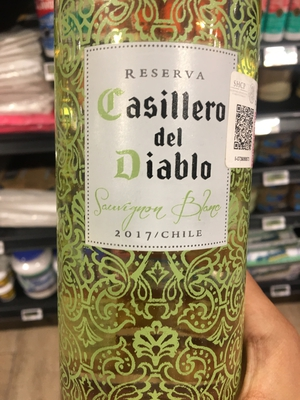casillero del diablo sauvignon blanc: (54, 1, 267, 400)
